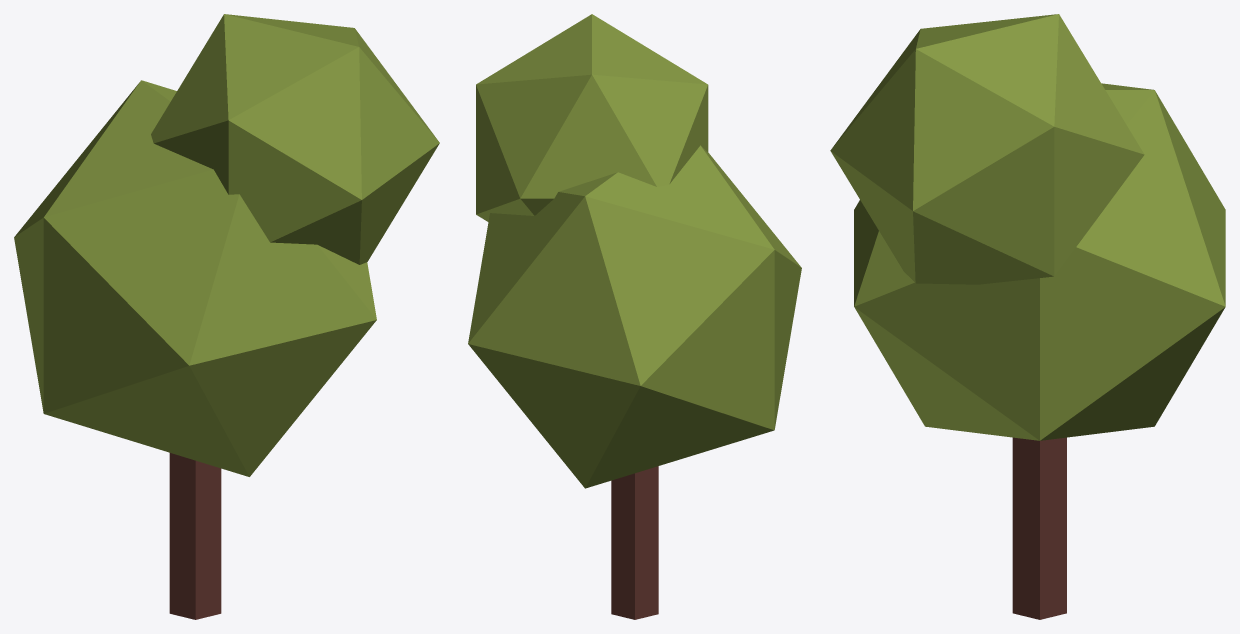
File: tree.glb
3 views of the same model, side by side, from view 1: azimuth 30°, elevation 25°; view 2: azimuth 150°, elevation 25°; view 3: azimuth 270°, elevation 25° (orthographic). The views are drawn at different scales.
Visible parts, largest first — view 1: Tree; view 2: Tree; view 3: Tree.
Part boxes in pixels (x1,y1,x2,y2): Tree: (14,14,439,619); Tree: (468,14,801,619); Tree: (830,14,1225,619).
Size of the model in its own units: 2.36 by 3.87 by 2.26.
